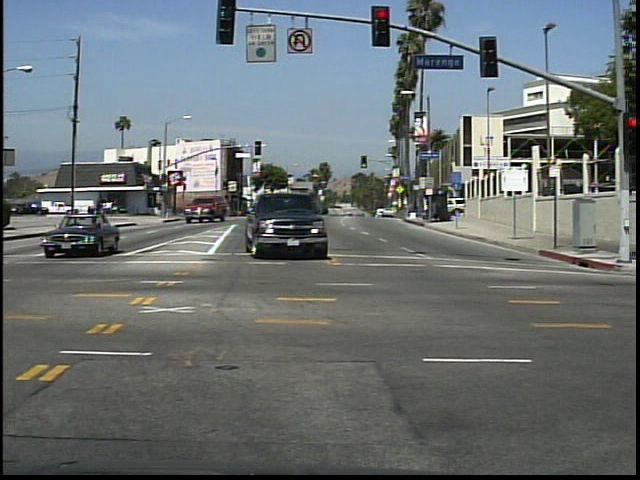person: (91, 196, 108, 224)
